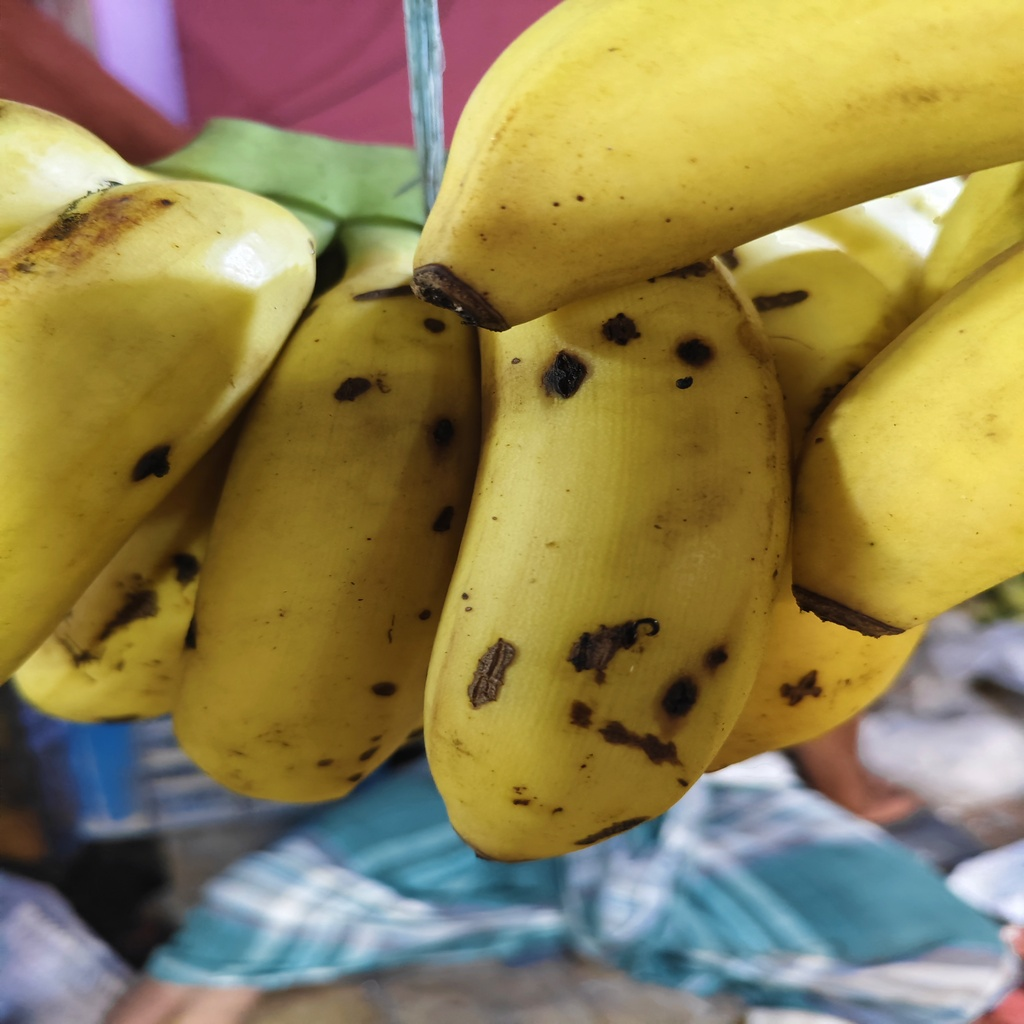unhealthy: (424, 268, 788, 855), (175, 270, 457, 809)
